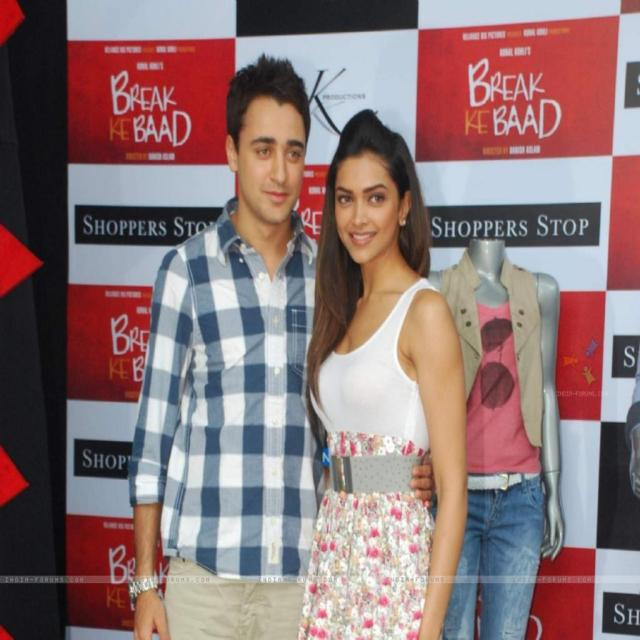Face: (239, 75, 310, 230), (330, 148, 416, 260)
